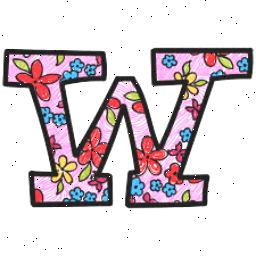w: (2, 44, 256, 212)
